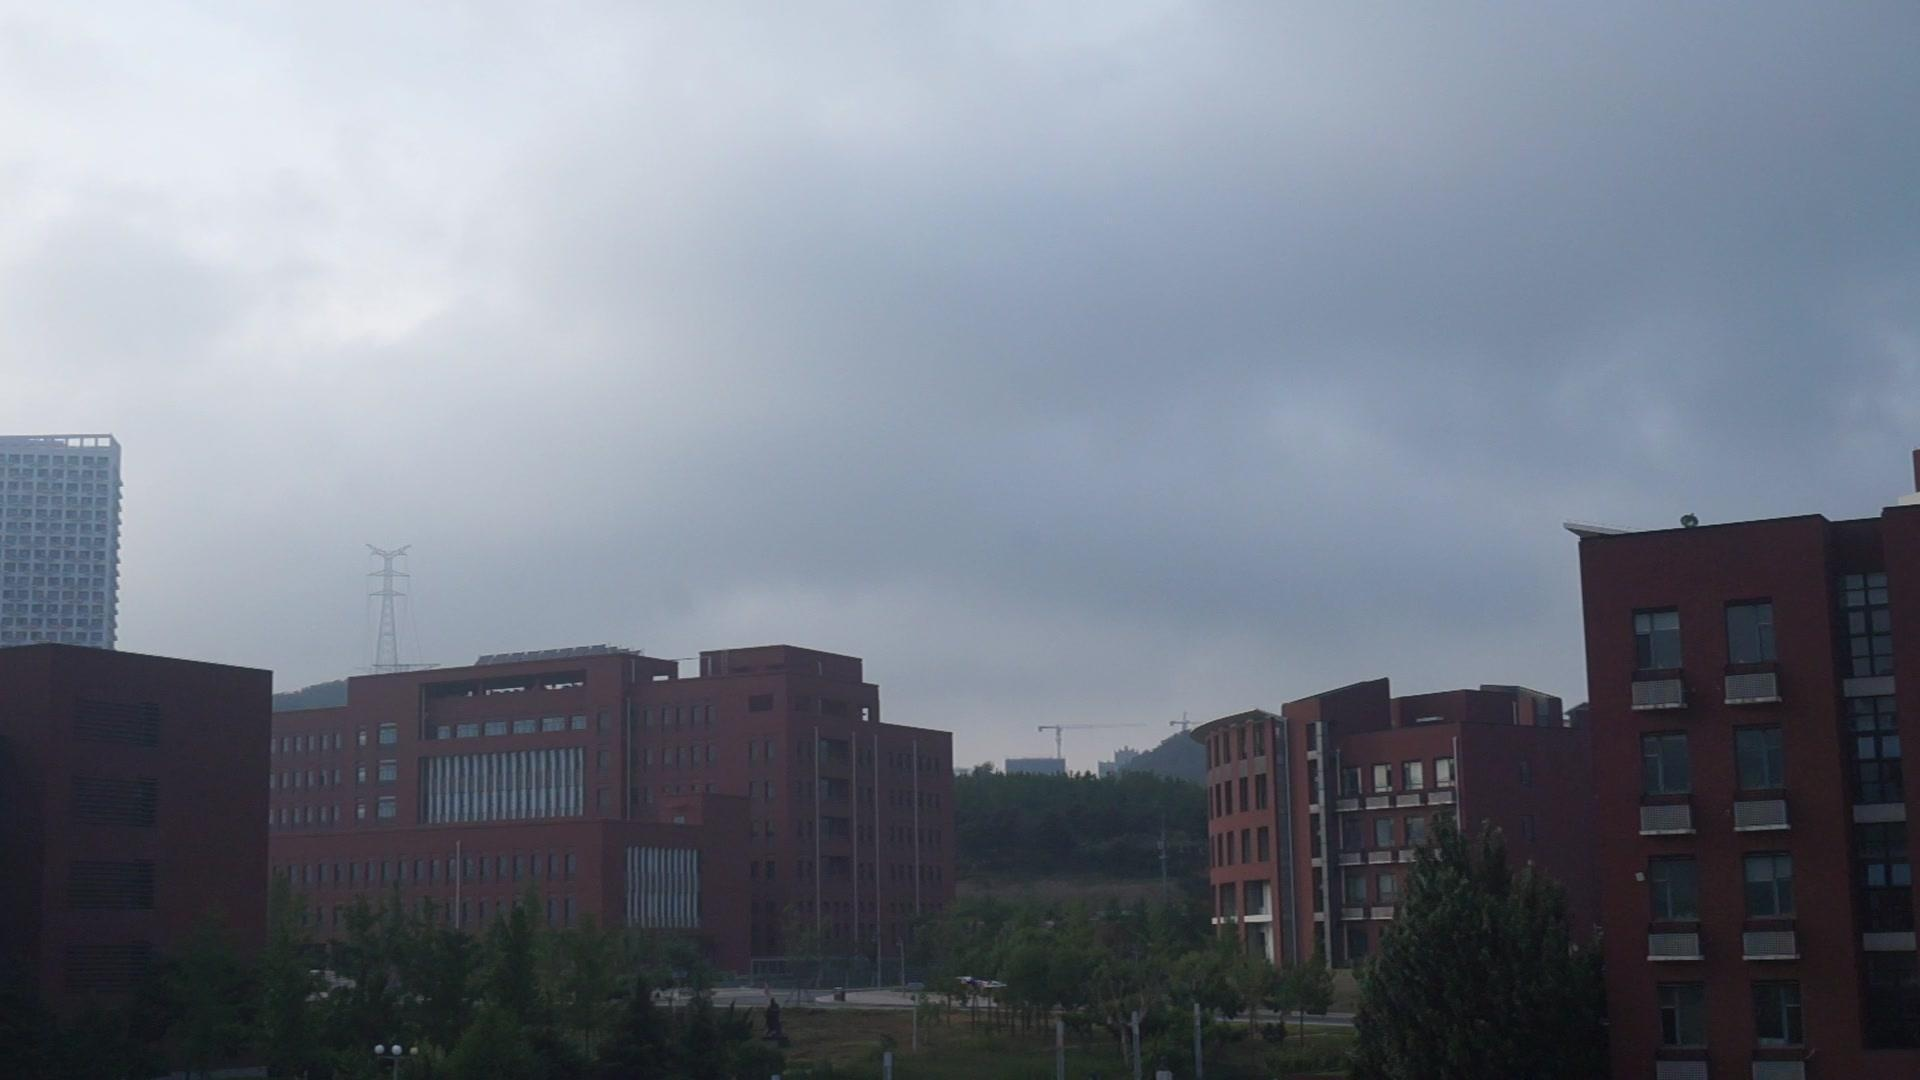UAV: (956, 976, 1007, 998)
